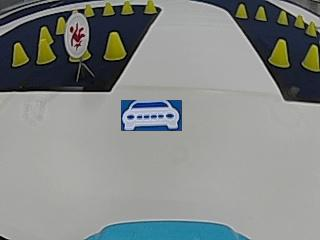cone: (268, 37, 291, 69), (103, 30, 126, 62), (301, 43, 319, 73), (36, 39, 54, 64), (11, 42, 27, 66), (234, 3, 247, 18), (143, 0, 156, 15), (255, 5, 267, 21), (55, 15, 65, 34), (305, 19, 316, 36), (121, 0, 133, 15), (102, 1, 114, 16), (277, 9, 288, 25), (83, 3, 94, 17), (295, 13, 304, 29)
tumble: (65, 17, 88, 52)
